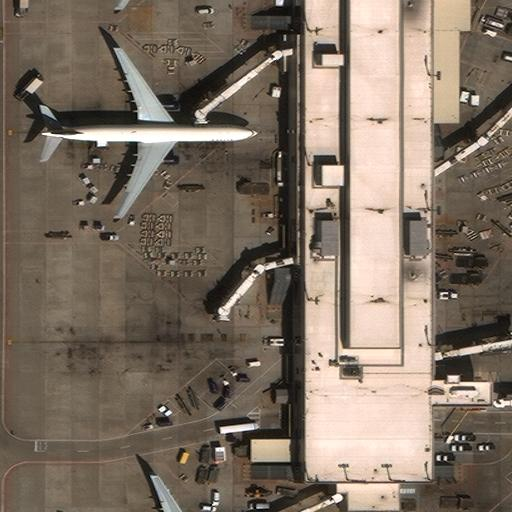Large Civil Transport: (40, 47, 256, 218), (121, 476, 211, 512)
